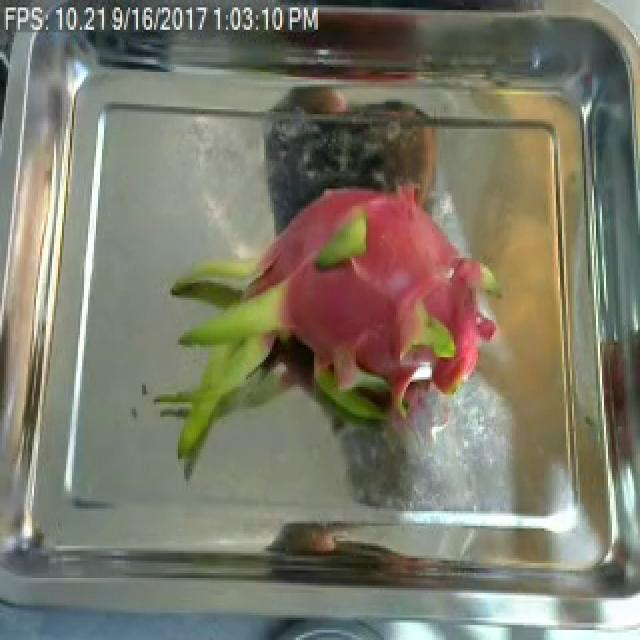fruit: (144, 154, 502, 481)
